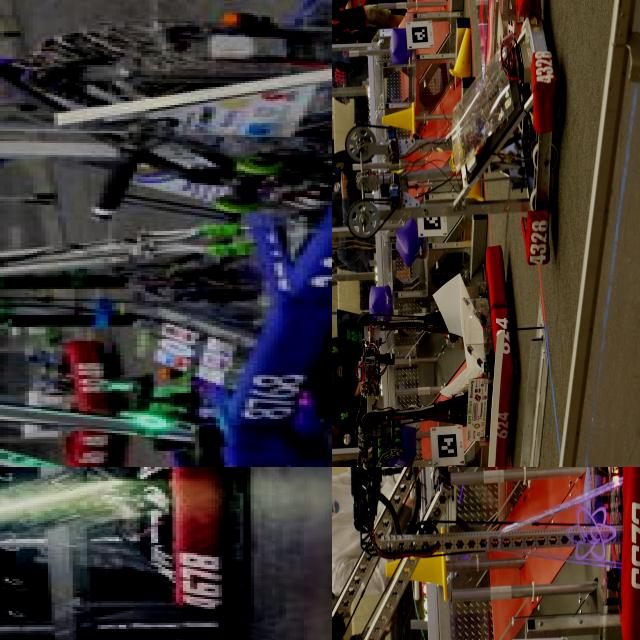FRC-Robots: (0, 0, 332, 293), (0, 190, 332, 430), (332, 467, 640, 640), (380, 0, 572, 262), (0, 467, 232, 635), (0, 372, 327, 467), (387, 268, 531, 467)
